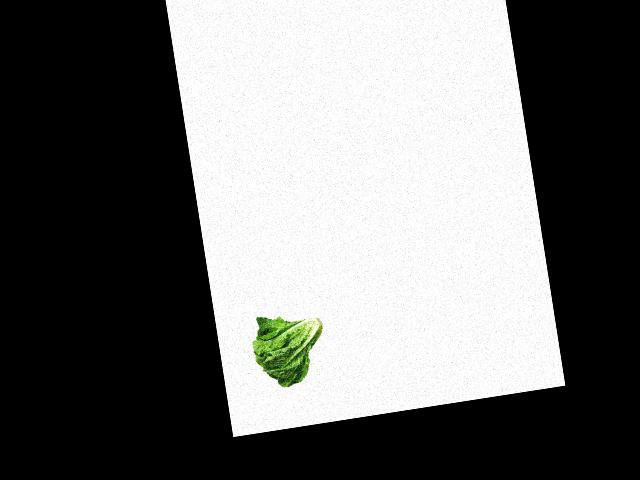lettuce: (248, 308, 334, 392)
